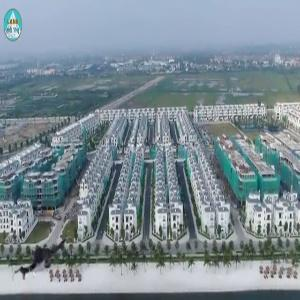drone: (7, 224, 79, 296)
